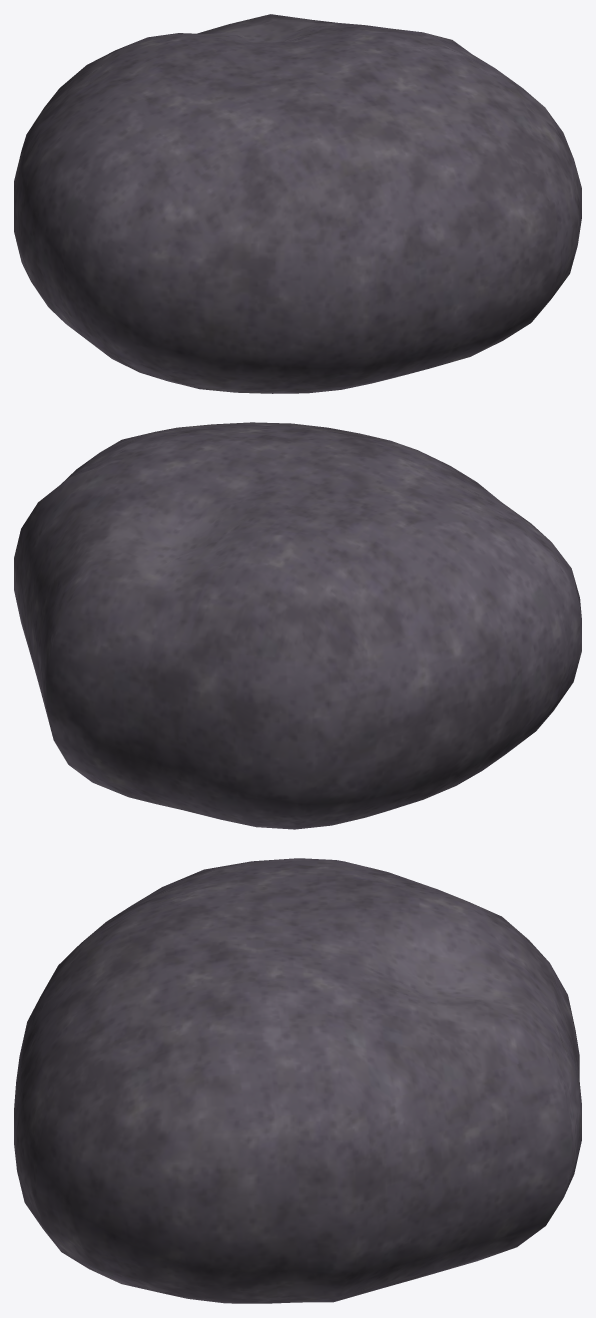
The model's file is chunky_cobble_08.glb.
3 views of the same model, one above another, from view 1: azimuth 30°, elevation 25°; view 2: azimuth 150°, elevation 25°; view 3: azimuth 270°, elevation 25° (orthographic). The views are drawn at different scales.
Visible parts, largest first — view 1: chunky_cobble_08; view 2: chunky_cobble_08; view 3: chunky_cobble_08.
Part boxes in pixels (x1=…): chunky_cobble_08: x1=14, y1=14, x2=581, y2=393; chunky_cobble_08: x1=14, y1=422, x2=581, y2=829; chunky_cobble_08: x1=14, y1=858, x2=581, y2=1303.
Bounding box in the file's own units: 0.0547 × 0.0314 × 0.0495.
1 material, 1 textured.
